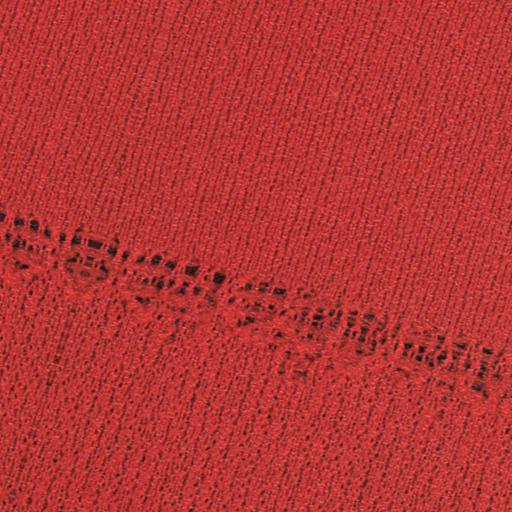slub: (2, 201, 511, 414)
